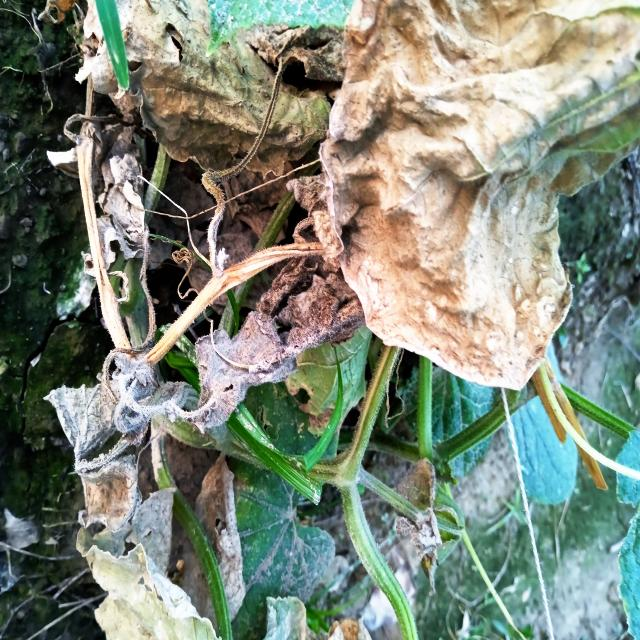Bacterial-Wilt: (283, 0, 639, 395), (184, 213, 367, 434), (45, 114, 153, 284)
